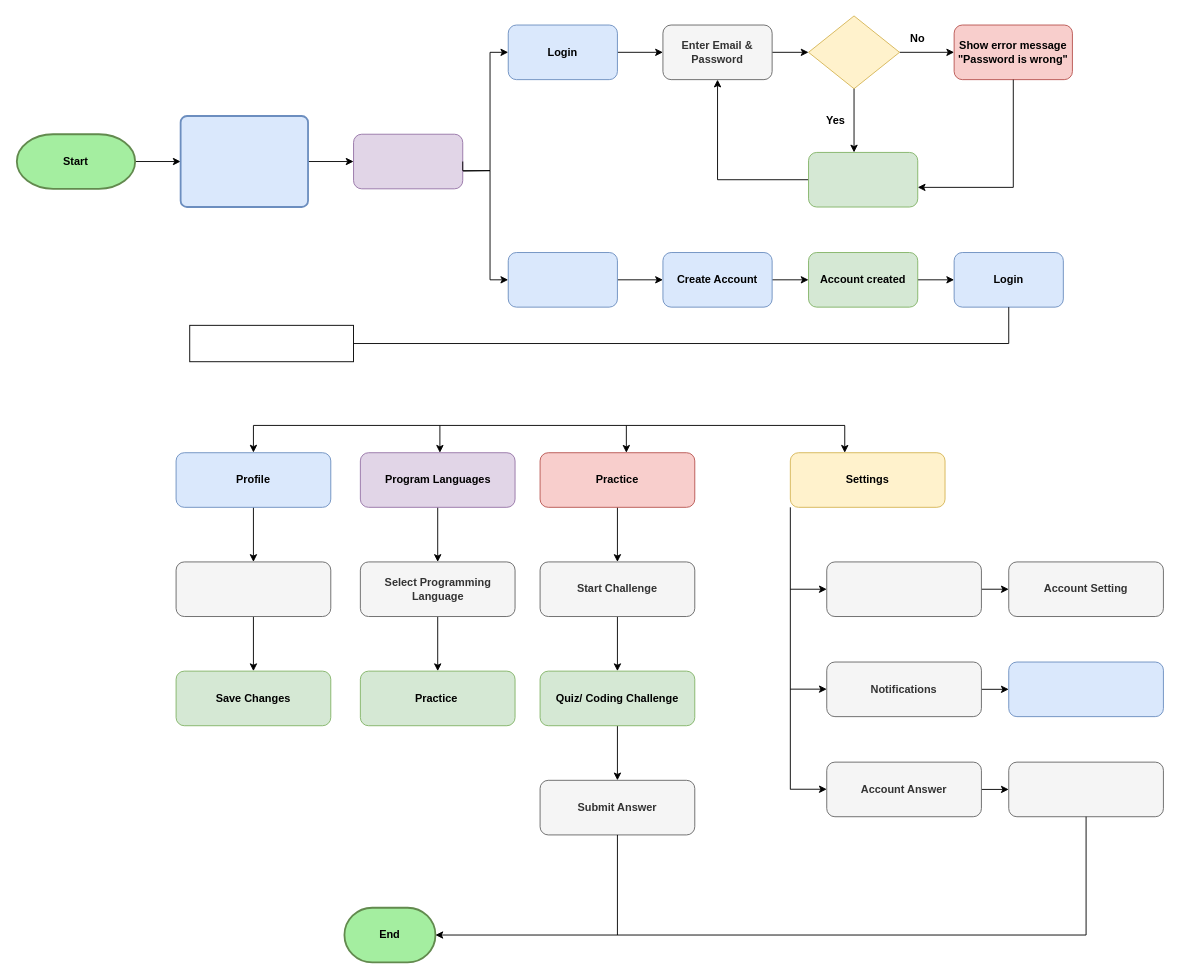
The diagram is 1179 pixels wide and 979 high, and some of its shapes have lost their labels. Here are the shapes that lost their labels. From the top down, the box of each, then its label:
(808, 15, 900, 89): Credentials correct?
(179, 115, 308, 207): Home Screen (Landing Page) View the app overview and features.
(353, 133, 463, 189): Choose an option (Login or Sign Up)
(808, 152, 918, 207): Home Page
(507, 252, 617, 307): Sign Up
(189, 324, 354, 362): After login (Main features)
(175, 561, 331, 617): Edit Profile
(826, 561, 981, 617): Account
(1008, 661, 1163, 717): Mange Notifications
(1008, 761, 1163, 817): Mange Account / Log Out
